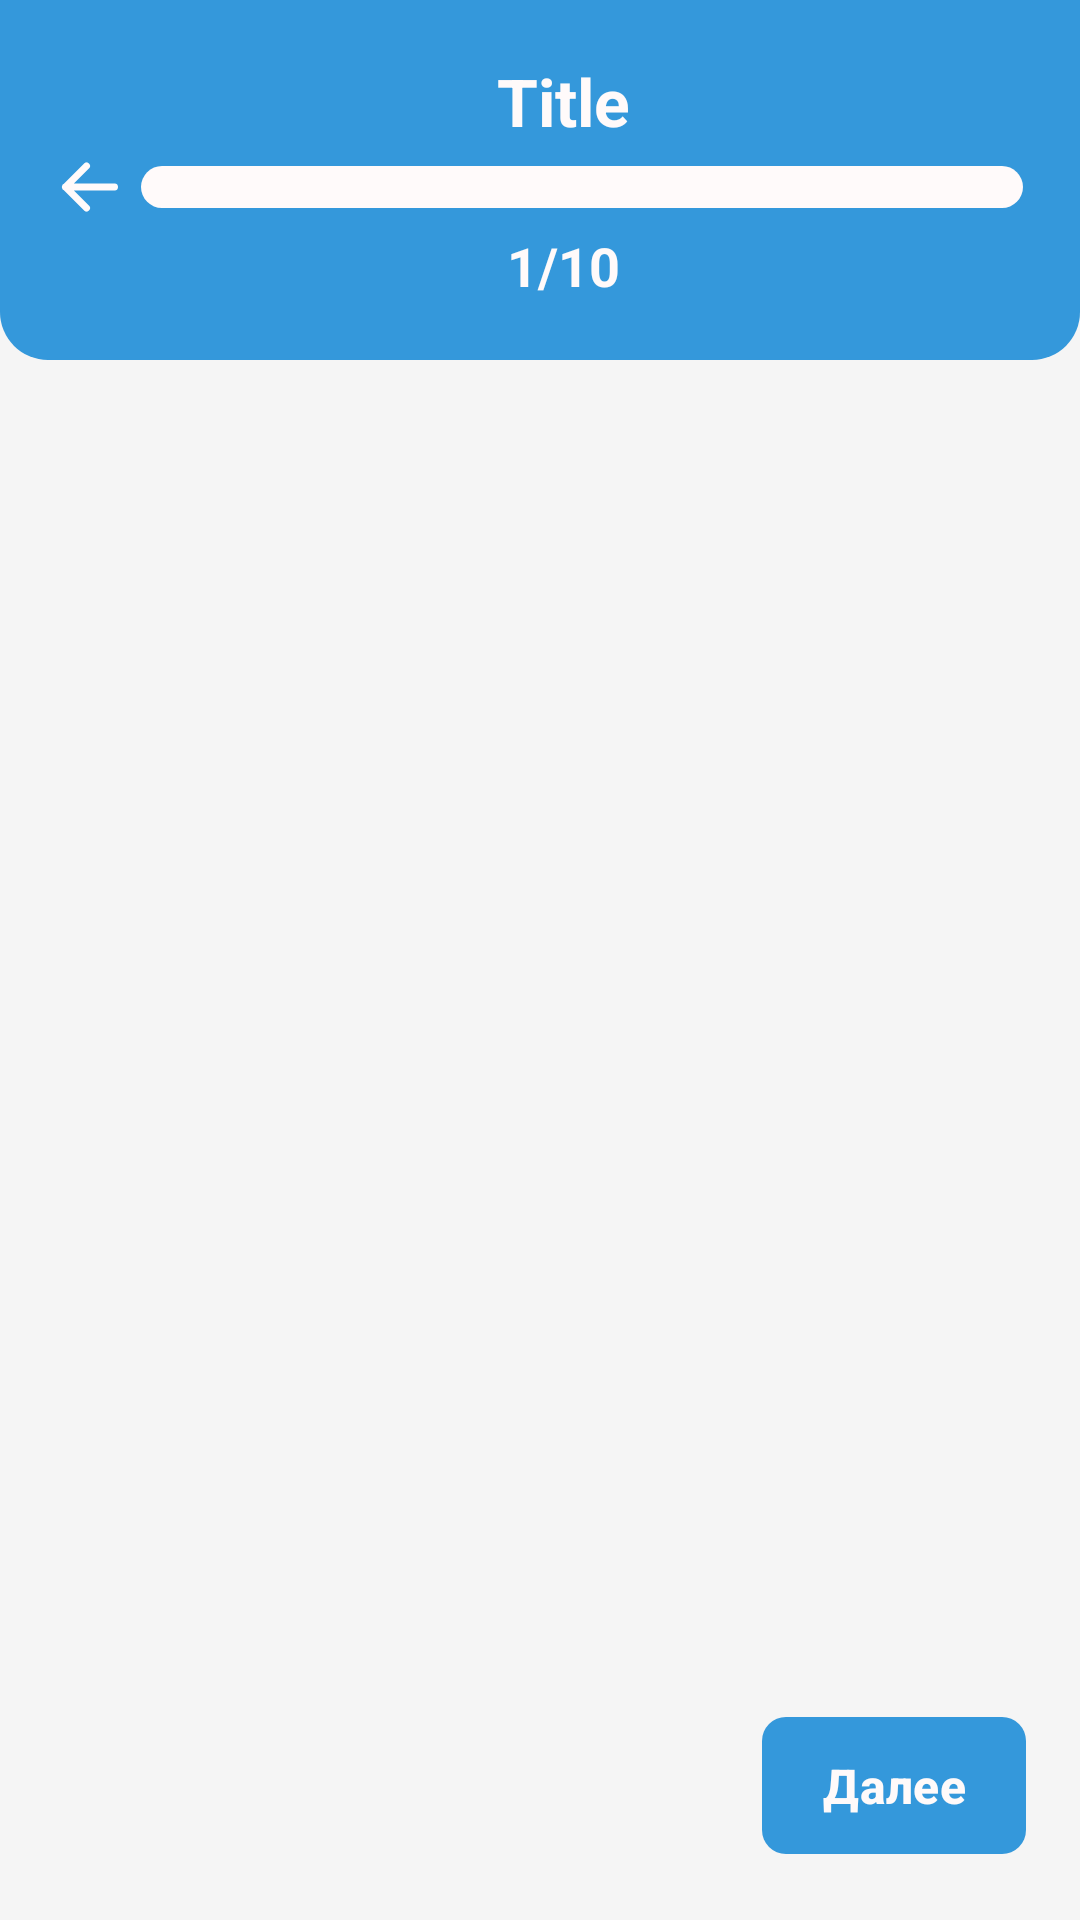

Named icons in this screenshot (1080px×1920px) and their centers, [x,y]:
arrow back: [90,187]
